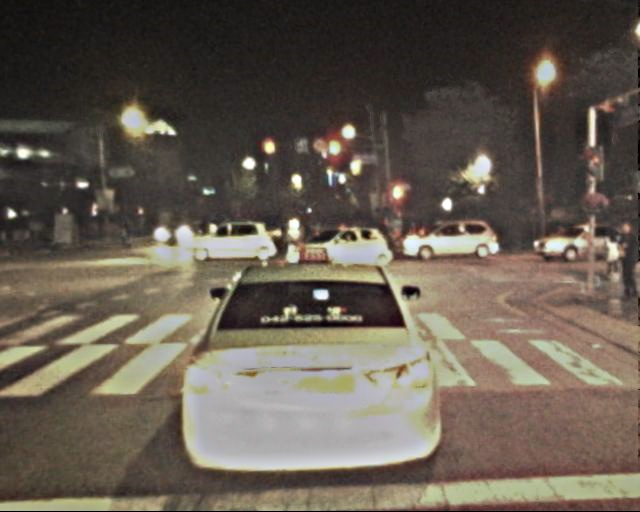person: (616, 221, 640, 296), (599, 228, 622, 283), (183, 216, 223, 234), (119, 215, 134, 252), (273, 215, 288, 251), (301, 219, 319, 245), (166, 217, 178, 247)
